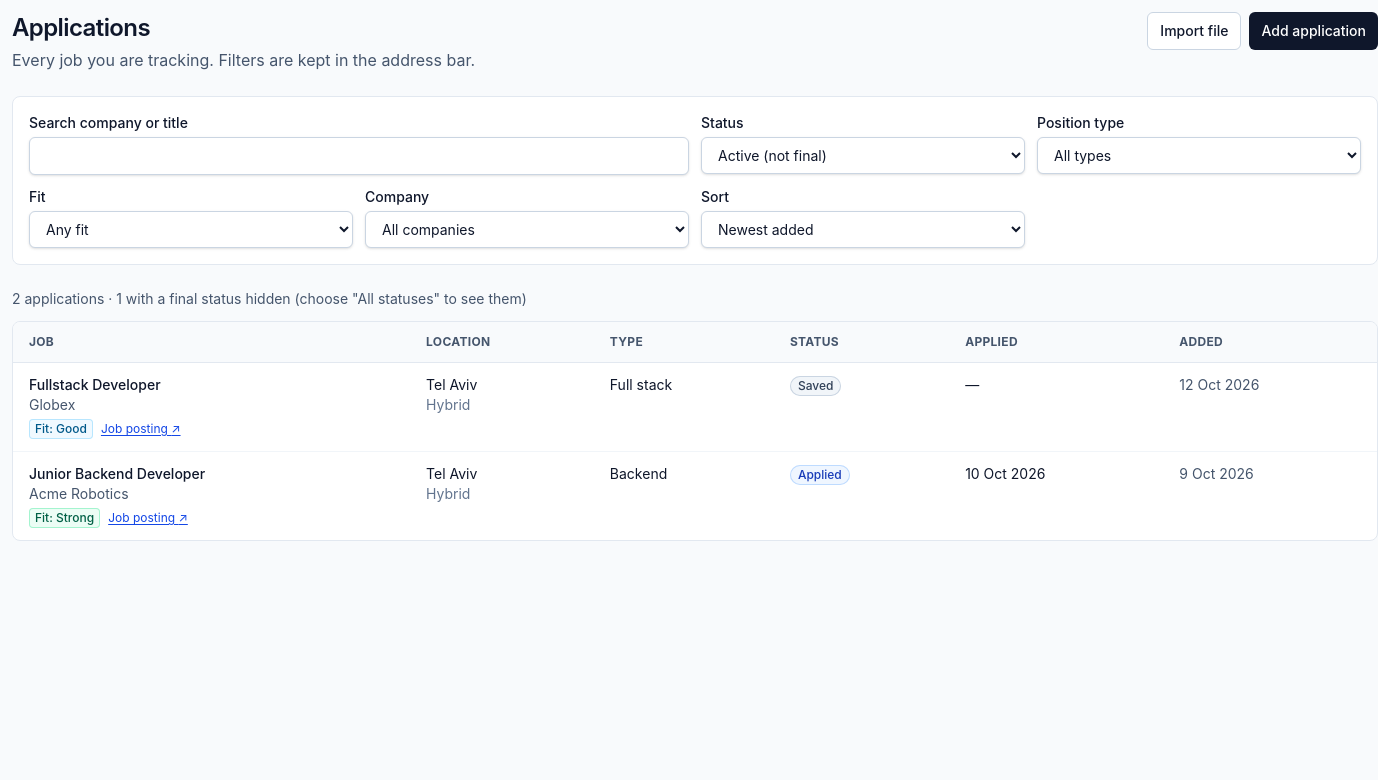
Test: ApplicationsPage › keeps the status filter in the URL
The image size is (1378, 780).
Select "All statuses" in the dropdown labelled "Status" at (863, 156), box [701,137,1025,174]
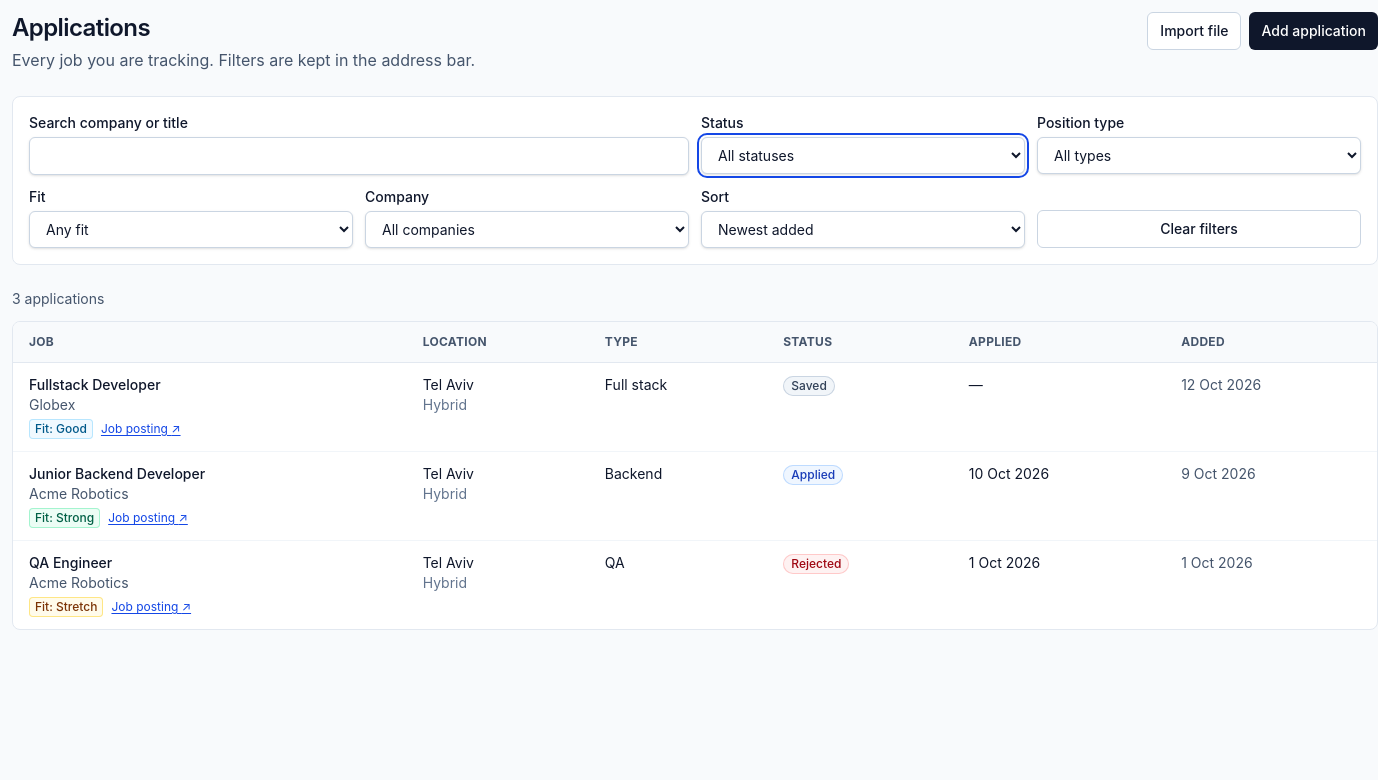
Result: the link "QA Engineer" is shown at [29,554,112,571]
